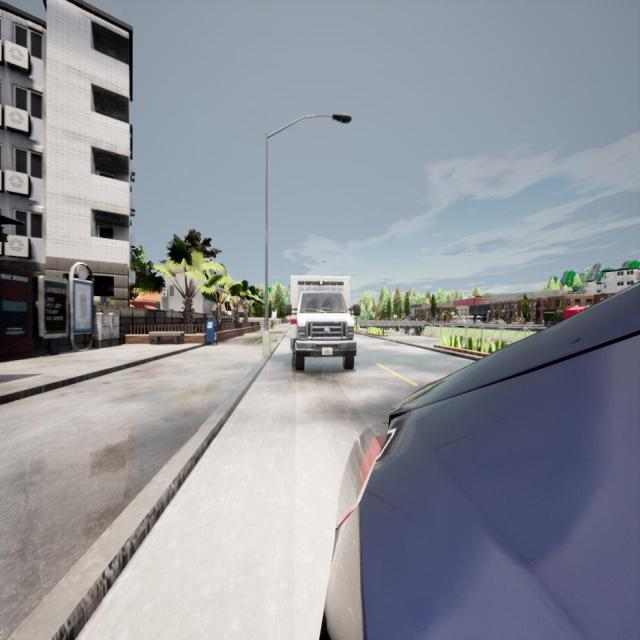Vehicle: (319, 282, 640, 640), (284, 275, 358, 372)
